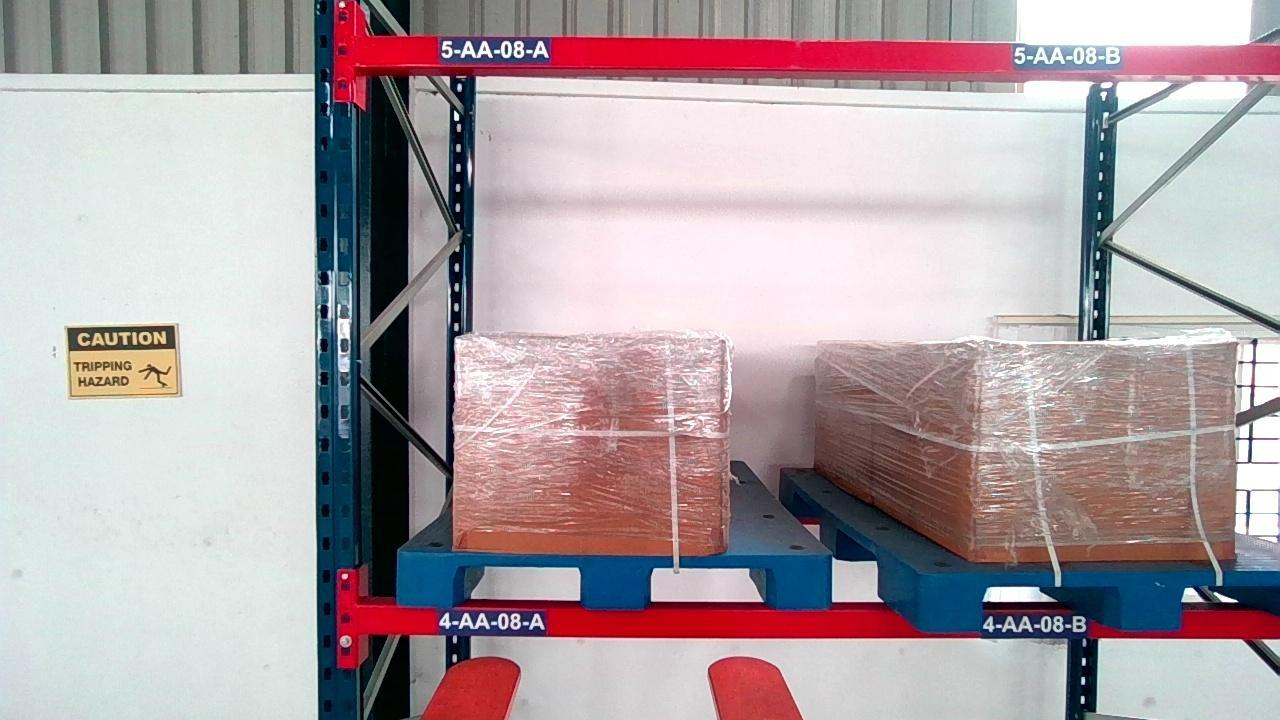h_rack: (361, 34, 1279, 76), (357, 605, 1278, 638)
small_pallet: (396, 550, 830, 610), (922, 576, 1280, 630)
